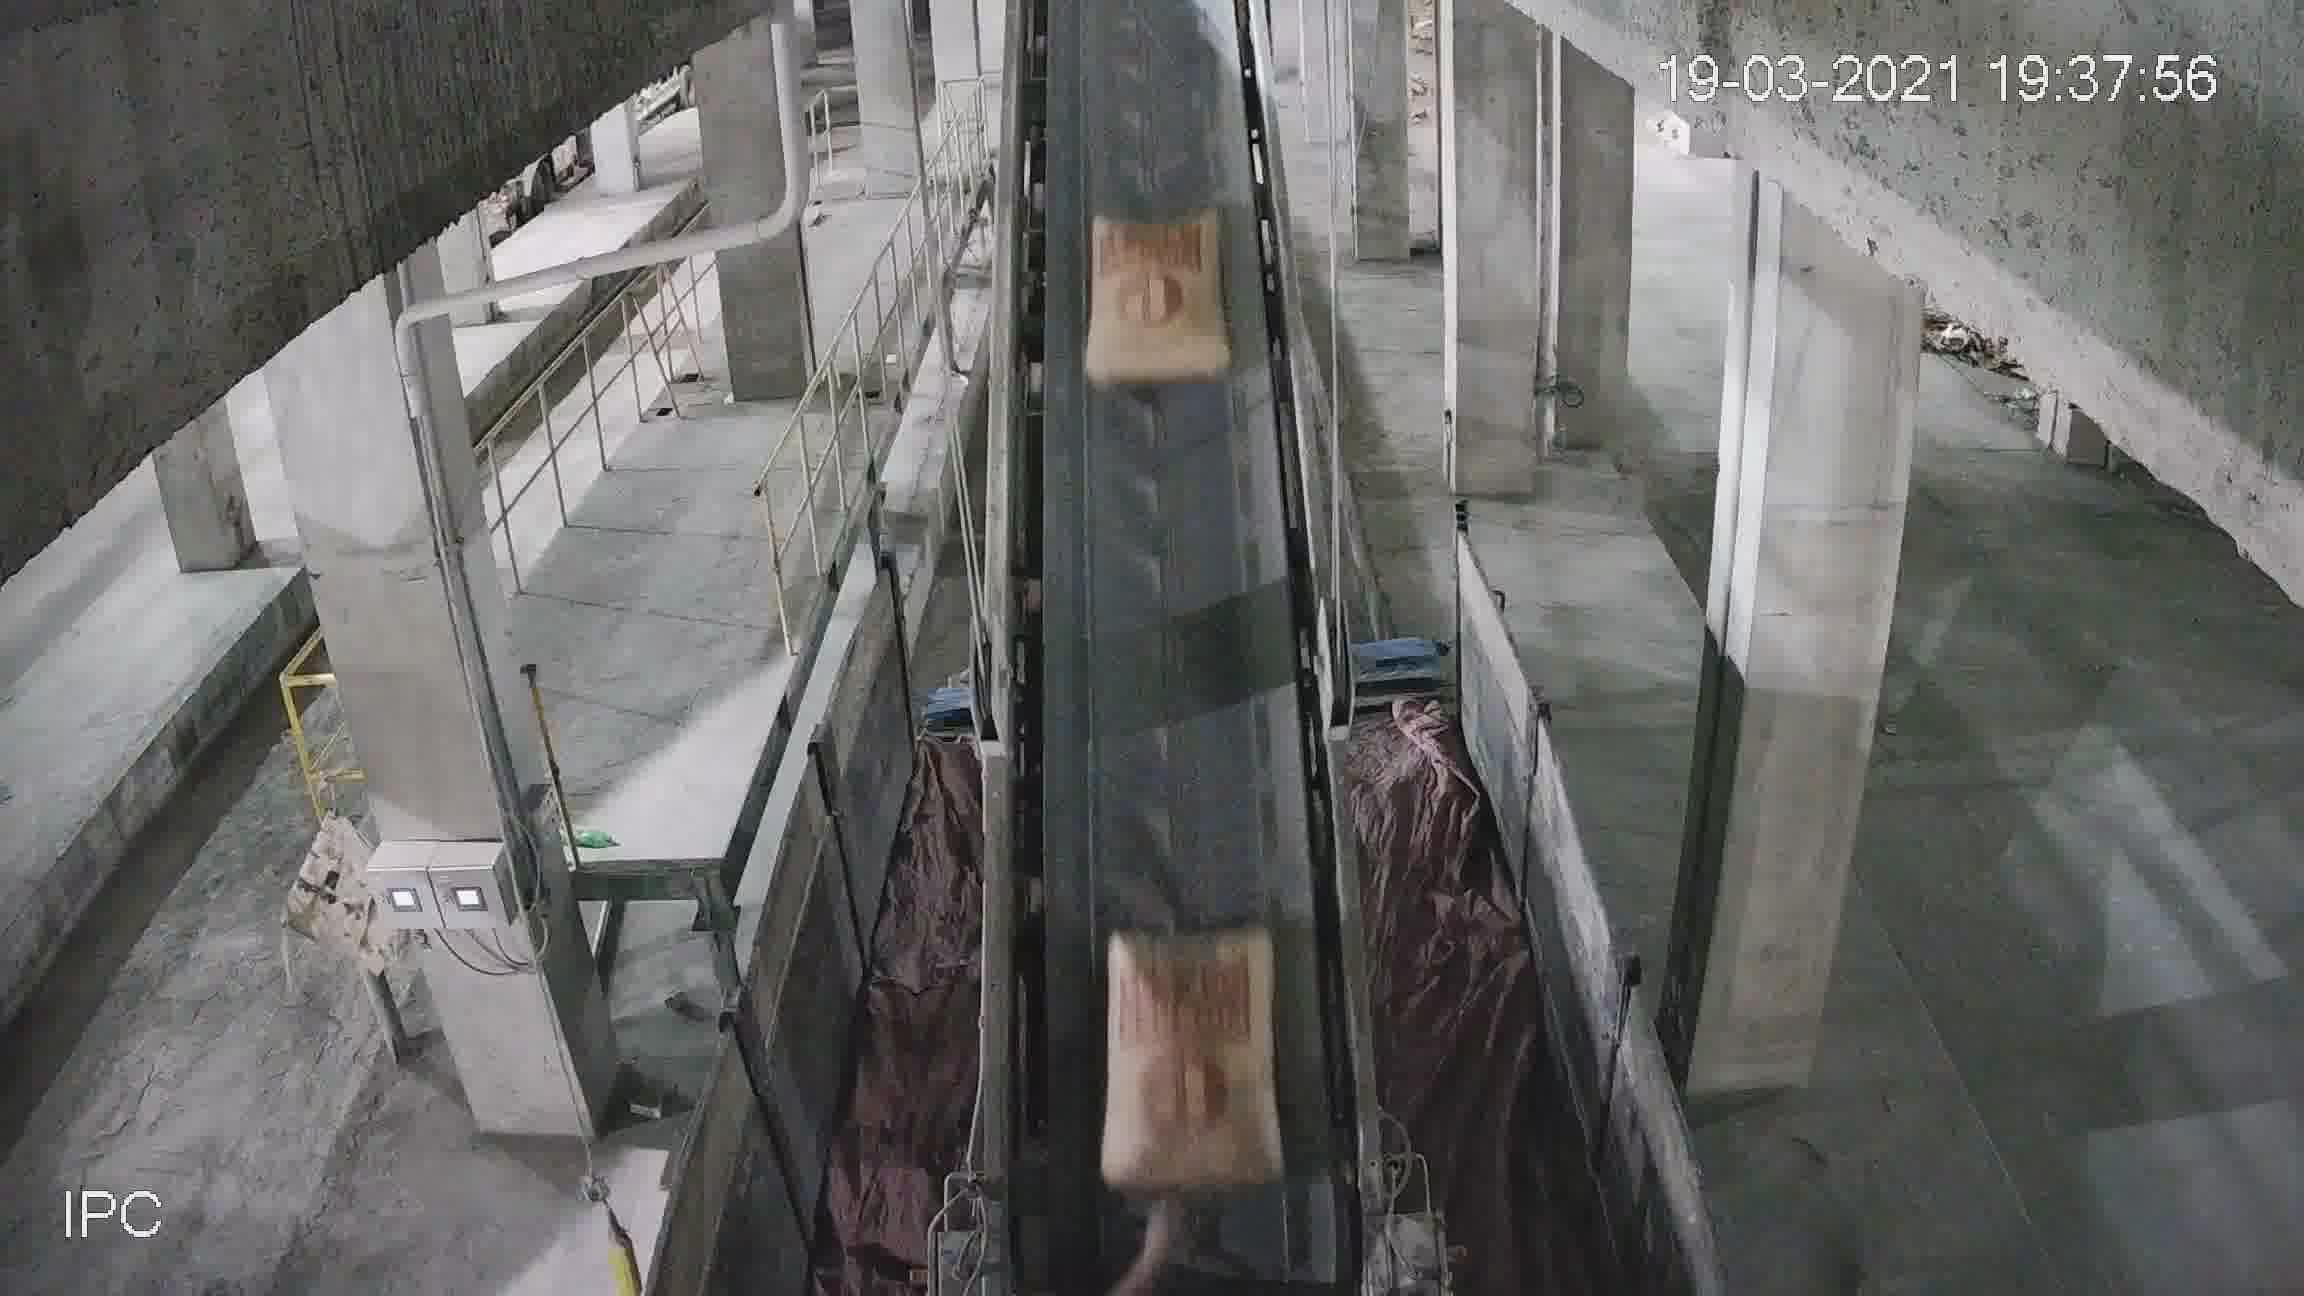bag: (1101, 937, 1274, 1192), (1082, 215, 1226, 386)
belt: (989, 82, 1331, 1124)
